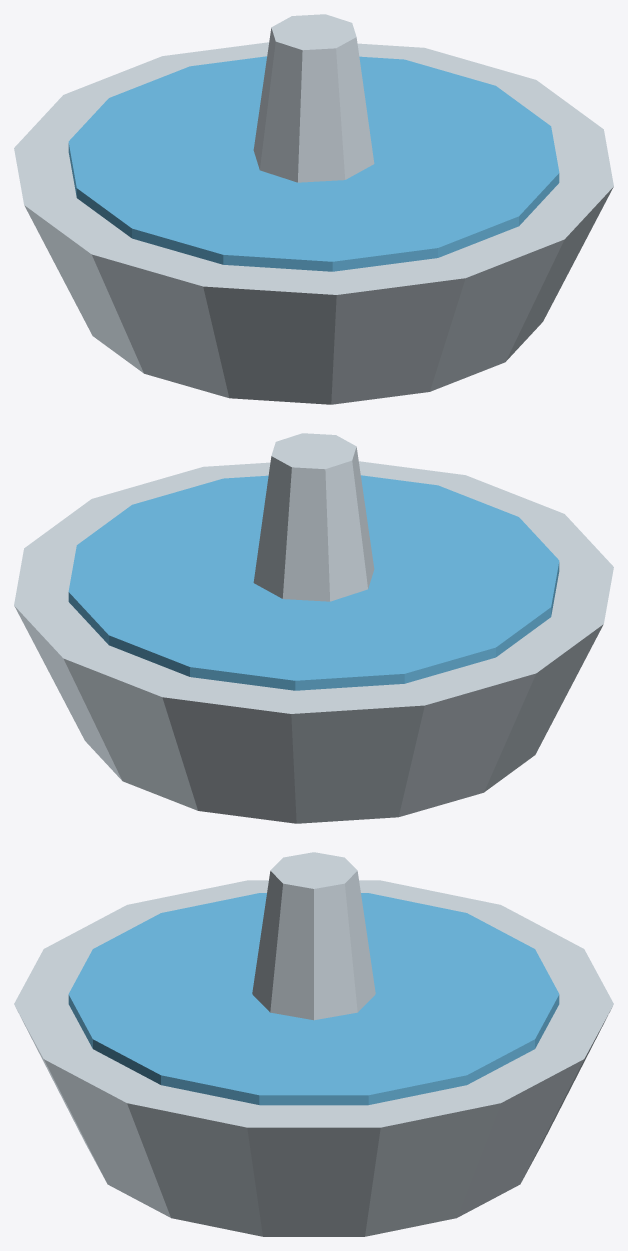
File: pet_fountain.glb
3 renders of one model, top to bottom at view 1: azimuth 30°, elevation 25°; view 2: azimuth 150°, elevation 25°; view 3: azimuth 270°, elevation 25°, orthographic.
Visible parts, largest first — view 1: pet_fountain; view 2: pet_fountain; view 3: pet_fountain.
Part boxes in pixels (x1,y1,x2,y2): pet_fountain: [14, 14, 613, 404]; pet_fountain: [14, 433, 613, 823]; pet_fountain: [14, 852, 613, 1236].
Size of the model in its own units: 1.07 by 0.55 by 1.1.
